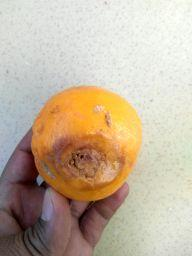Unripe: (33, 85, 140, 199)
